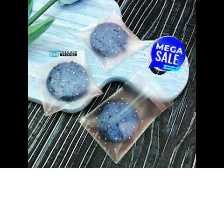snack: (73, 63, 178, 168), (27, 40, 106, 118), (70, 6, 152, 77)
